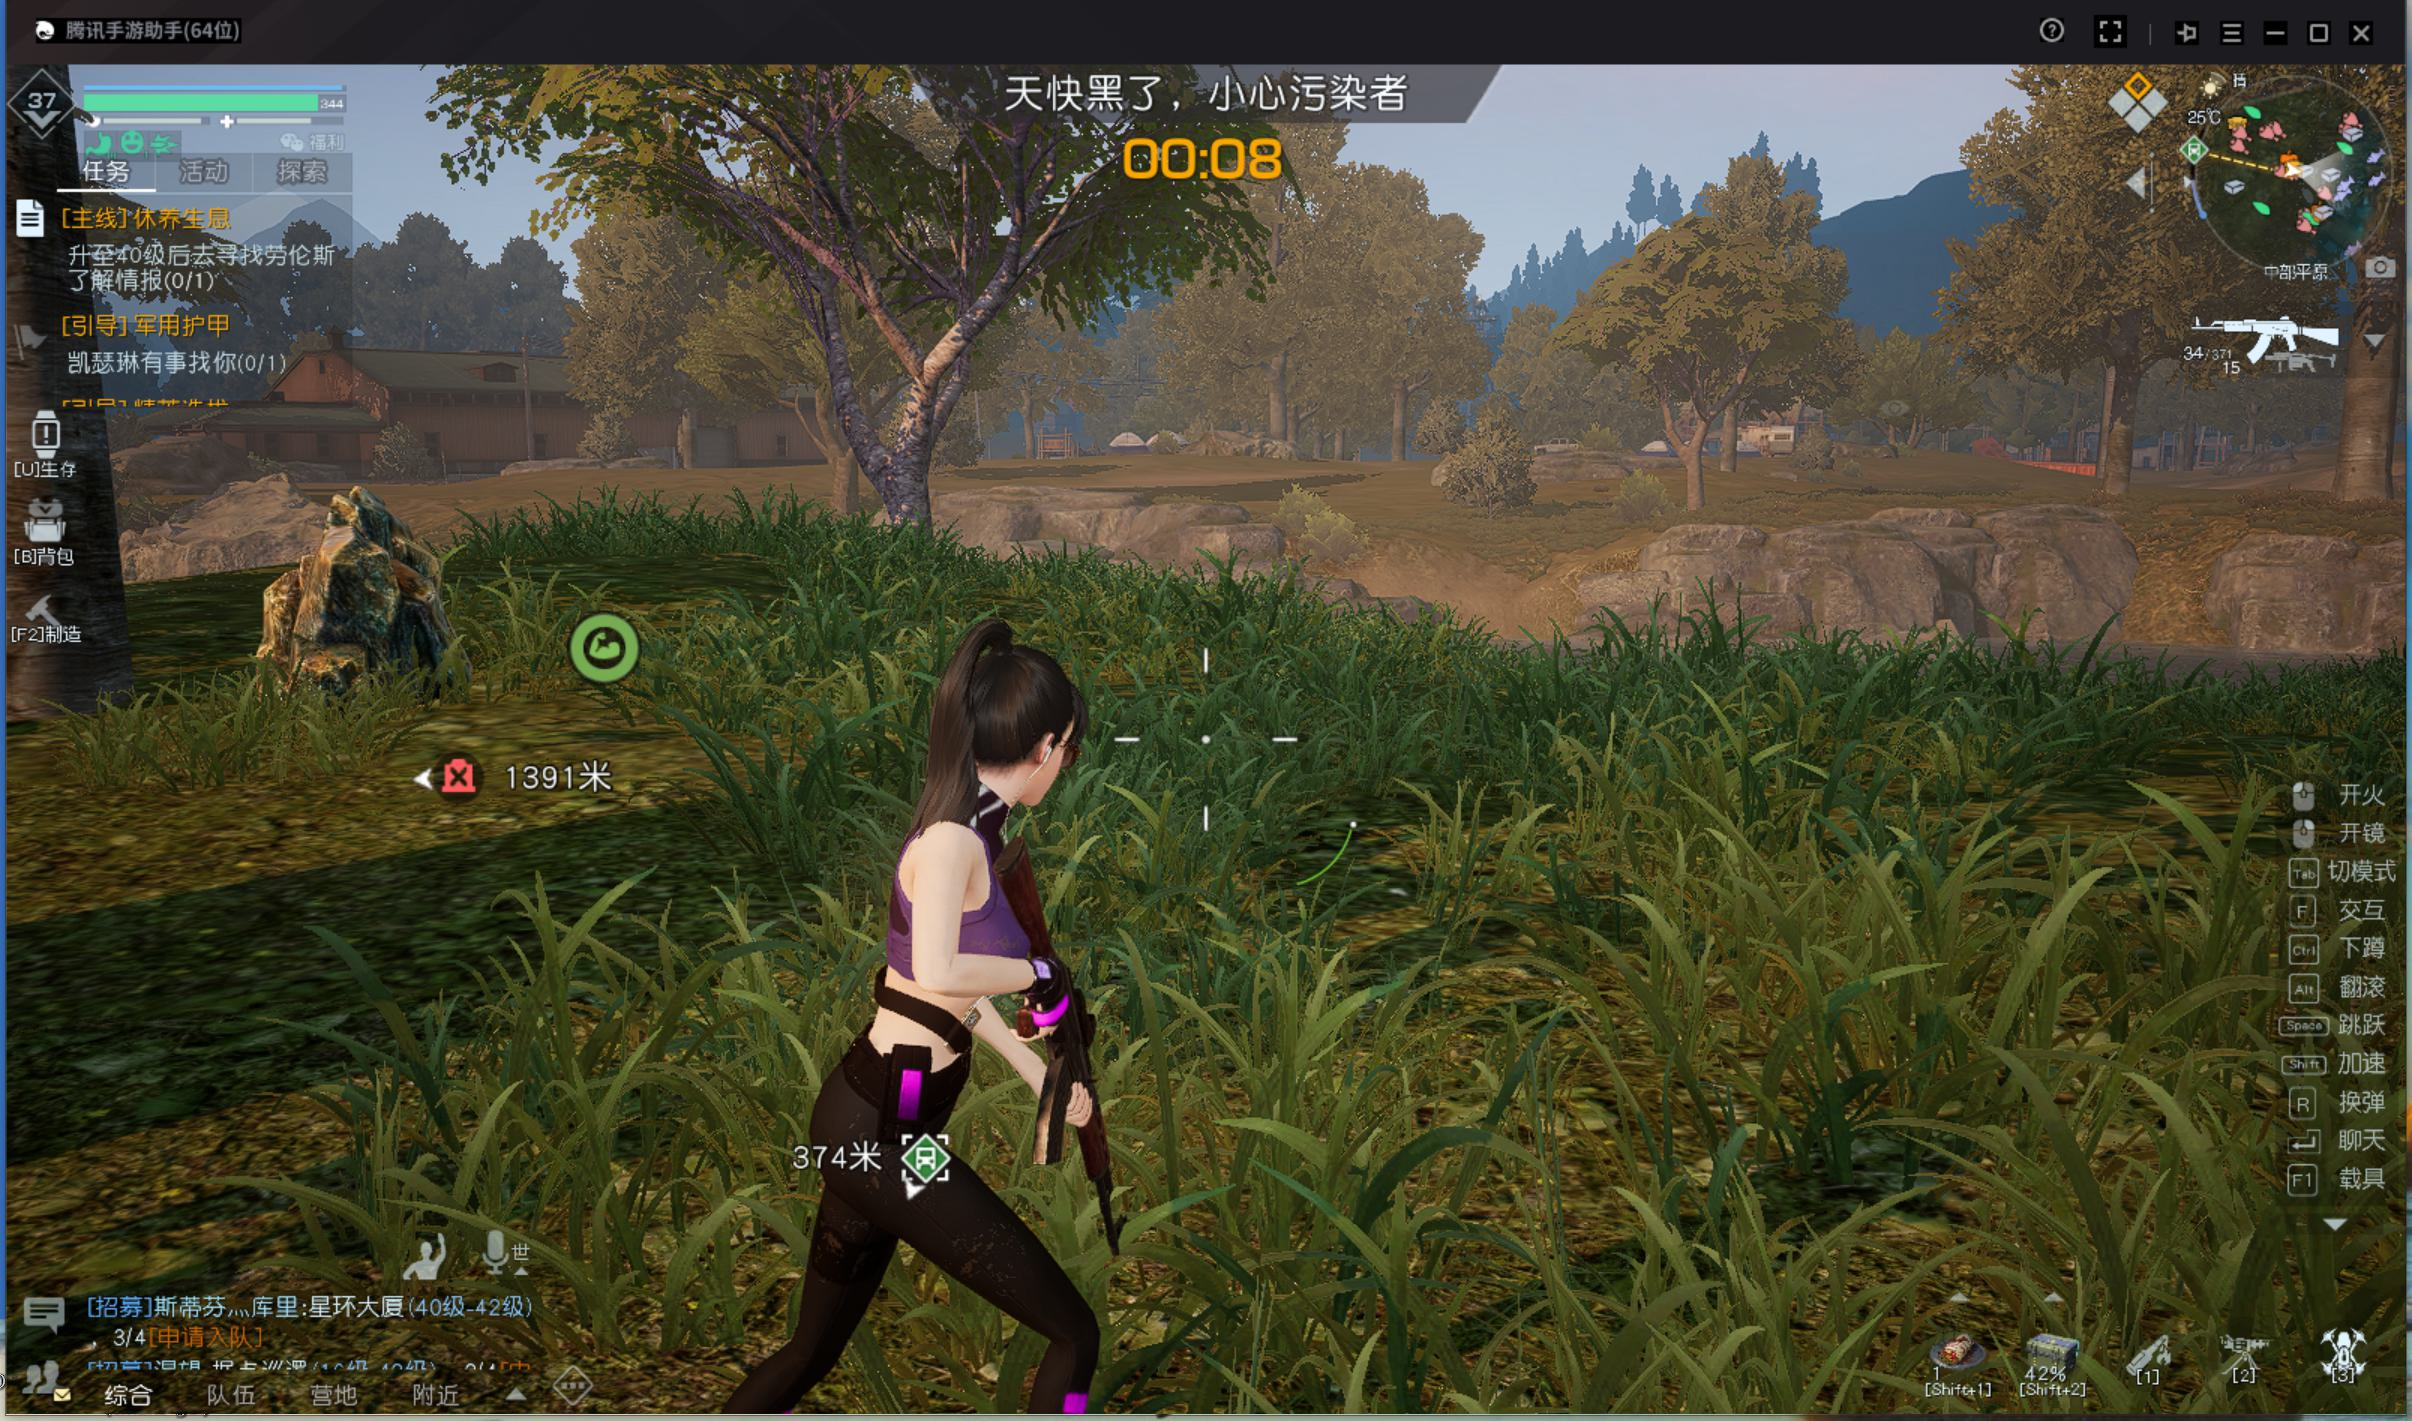stone: (244, 472, 472, 704)
tree: (876, 382, 947, 545), (2091, 370, 2141, 501), (1675, 428, 1713, 516), (1265, 364, 1296, 457), (1389, 389, 1411, 477)
